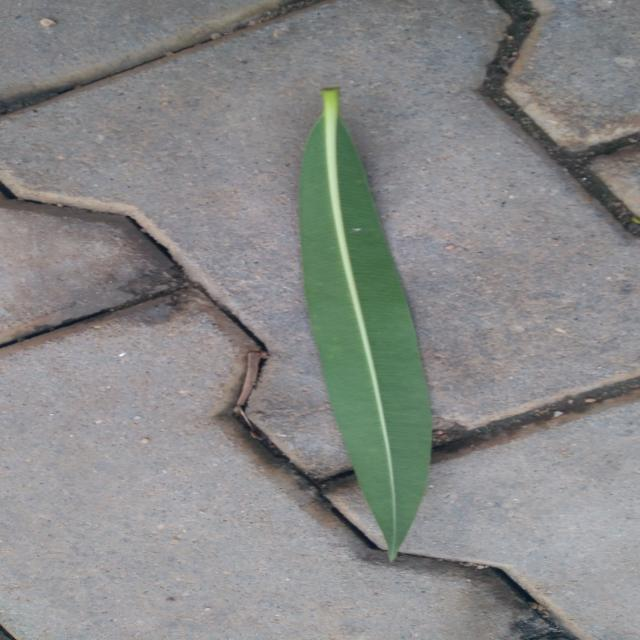ganigale: (300, 88, 431, 559)
